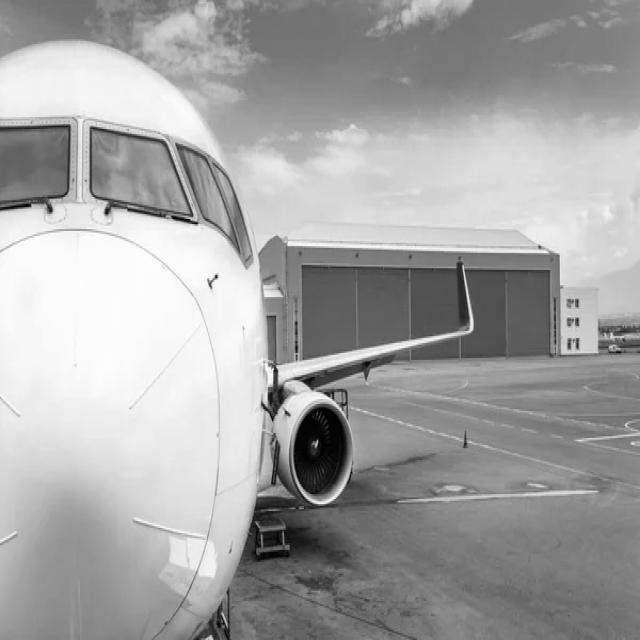Aircraft: (0, 24, 372, 640)
